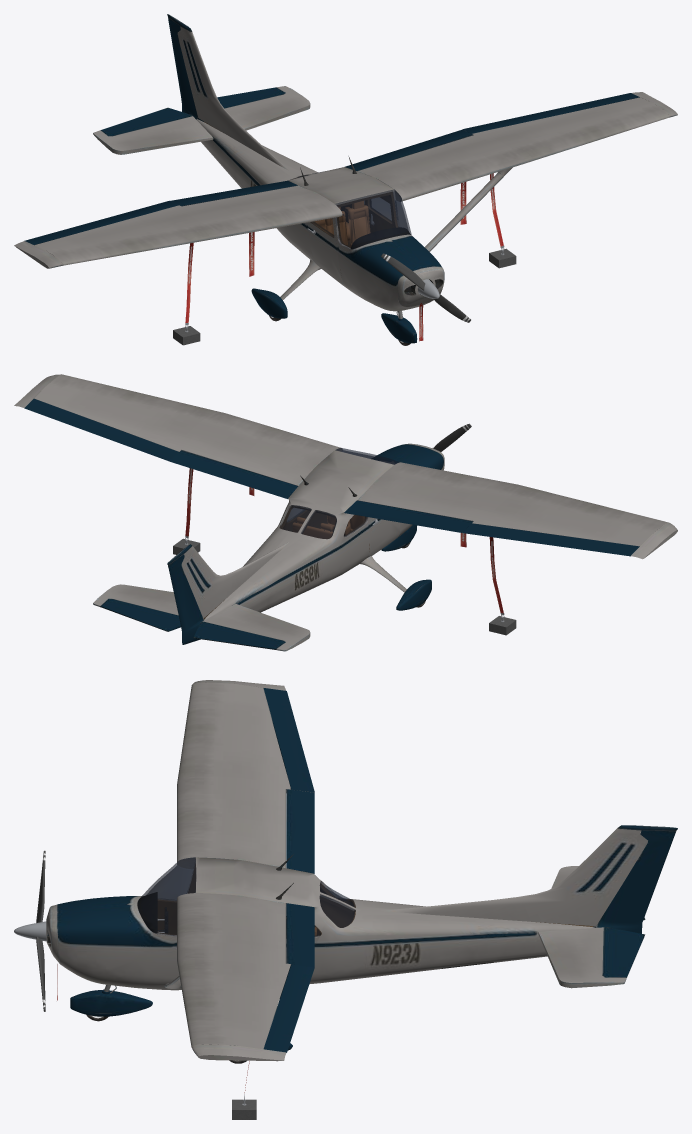
3 views of the same model, one above another, from view 1: azimuth 30°, elevation 25°; view 2: azimuth 150°, elevation 25°; view 3: azimuth 270°, elevation 25° (orthographic). The views are drawn at different scales.
Parts seen in each view (by area): view 1: vehicle; view 2: vehicle; view 3: vehicle.
Boxes of the visible parts, bbox=[...] form: vehicle: bbox=[14, 14, 677, 345]; vehicle: bbox=[14, 374, 677, 651]; vehicle: bbox=[14, 680, 677, 1119].
Size of the model in its own units: 11.09 by 2.69 by 8.3.
Materials: 27 (12 with a texture image).
